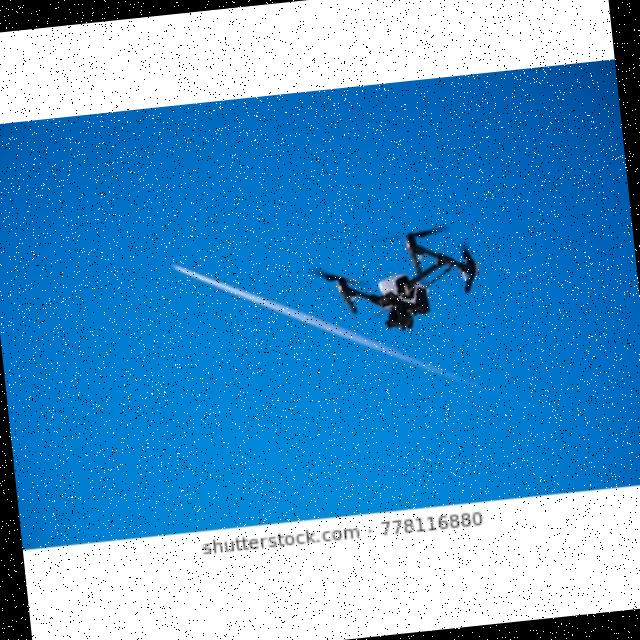Drones: (317, 226, 488, 342)
